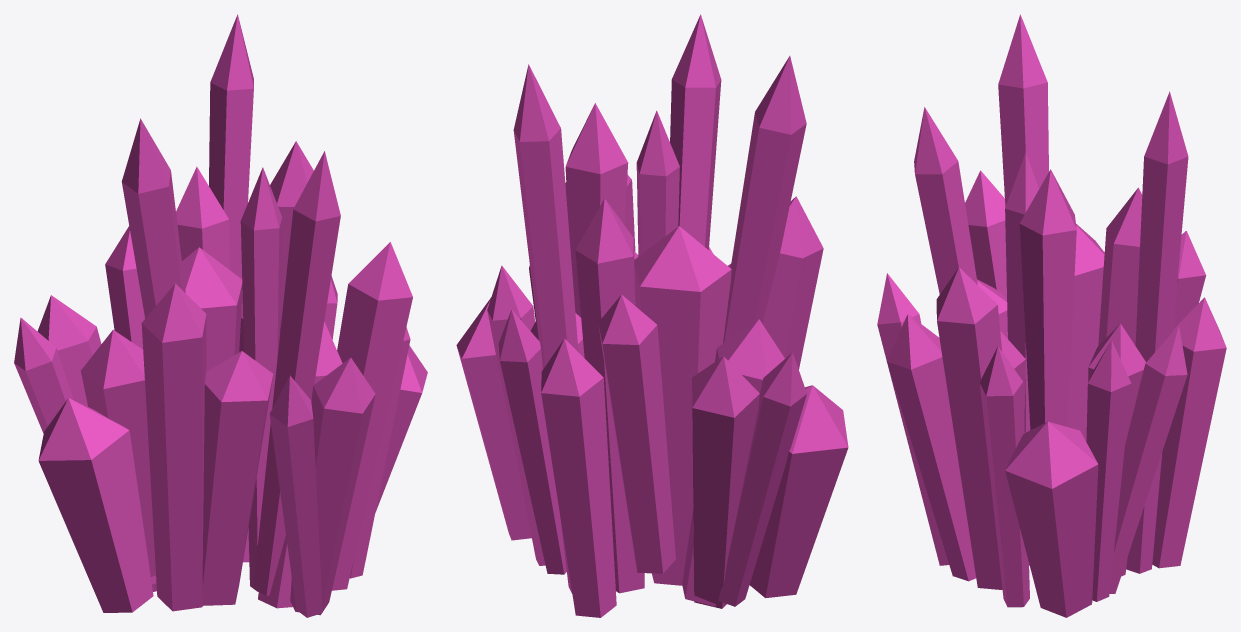
The model's file is crystals_1.fbx.
The picture shows the model from 3 angles, left to right: view 1: azimuth 30°, elevation 25°; view 2: azimuth 150°, elevation 25°; view 3: azimuth 270°, elevation 25°; orthographic projection. The views are drawn at different scales.
Parts seen in each view (by area): view 1: crystals.001; view 2: crystals.001; view 3: crystals.001.
Boxes of the visible parts, left/top/right/bottom form: crystals.001: left=14, top=14, right=427, bottom=617; crystals.001: left=456, top=14, right=848, bottom=617; crystals.001: left=877, top=14, right=1226, bottom=617.
Bounding box in the file's own units: 344 × 442 × 280.
